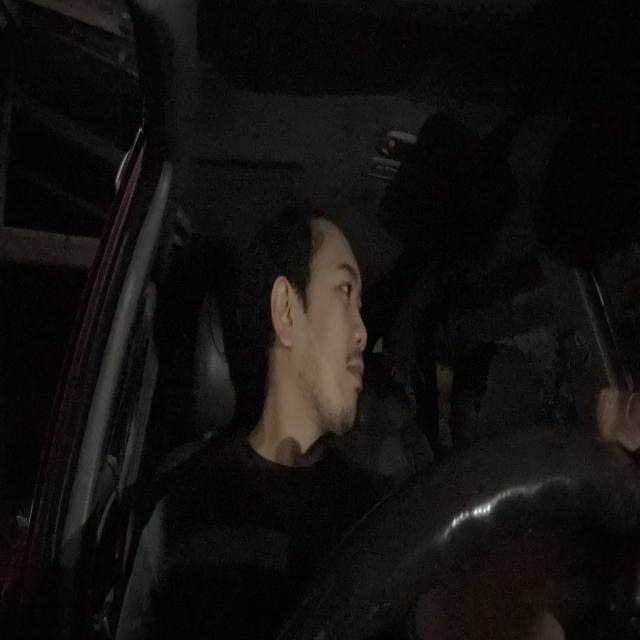open: (330, 260, 358, 311)
